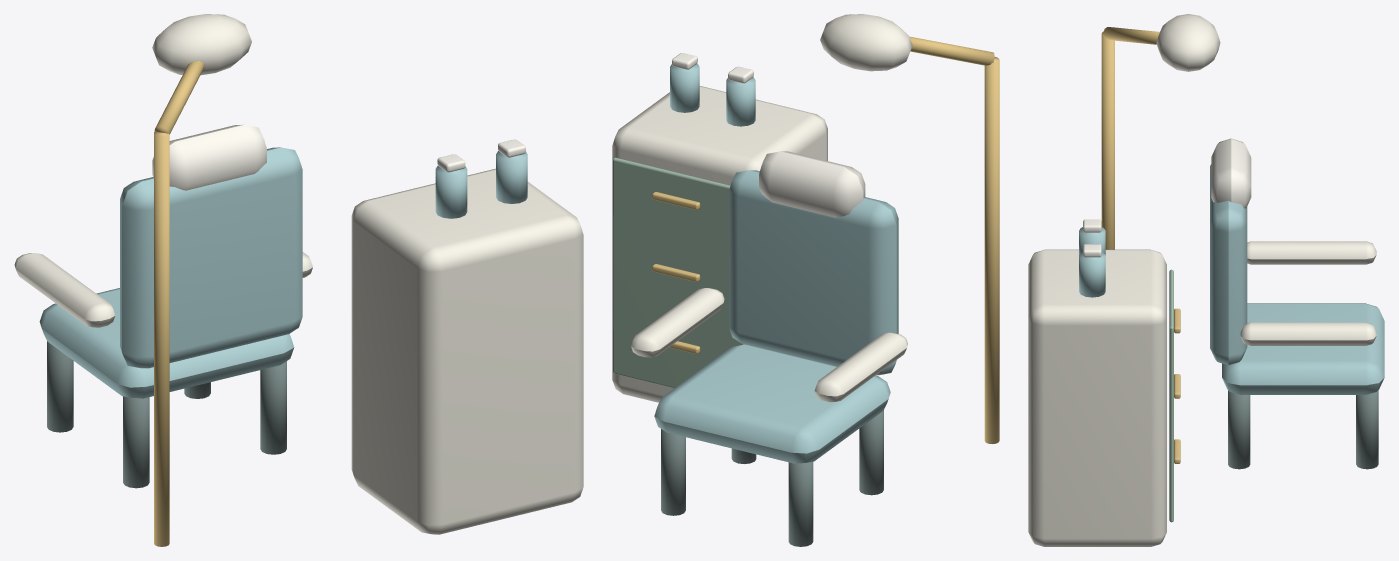
The model's file is TreatmentBay.fbx.
The picture shows the model from 3 angles, left to right: view 1: azimuth 30°, elevation 25°; view 2: azimuth 150°, elevation 25°; view 3: azimuth 270°, elevation 25°; orthographic projection. The views are drawn at different scales.
Parts seen in each view (by area): view 1: TreatmentBay_Ivory, TreatmentBay_Blue, TreatmentBay_Gold, TreatmentBay_Ink, TreatmentBay_Linen; view 2: TreatmentBay_Blue, TreatmentBay_Ivory, TreatmentBay_Sage, TreatmentBay_Gold, TreatmentBay_Ink, TreatmentBay_Linen; view 3: TreatmentBay_Ivory, TreatmentBay_Blue, TreatmentBay_Gold, TreatmentBay_Ink, TreatmentBay_Linen, TreatmentBay_Sage.
Boxes of the visible parts, x1,y1,x2,y2 form: TreatmentBay_Ivory: (14,14,583,534); TreatmentBay_Blue: (39,147,527,398); TreatmentBay_Gold: (154,61,204,546); TreatmentBay_Ink: (47,341,286,488); TreatmentBay_Linen: (152,124,525,190); TreatmentBay_Blue: (654,63,898,463); TreatmentBay_Ivory: (612,14,912,402); TreatmentBay_Sage: (613,157,745,388); TreatmentBay_Gold: (652,36,999,443); TreatmentBay_Ink: (661,410,883,546); TreatmentBay_Linen: (672,53,865,217); TreatmentBay_Ivory: (1028,14,1376,546); TreatmentBay_Blue: (1079,164,1384,394); TreatmentBay_Gold: (1101,27,1180,463); TreatmentBay_Ink: (1228,390,1378,469); TreatmentBay_Linen: (1083,138,1251,257); TreatmentBay_Sage: (1169,269,1173,522).
Bounding box in the file's own units: 141 × 170 × 134.
